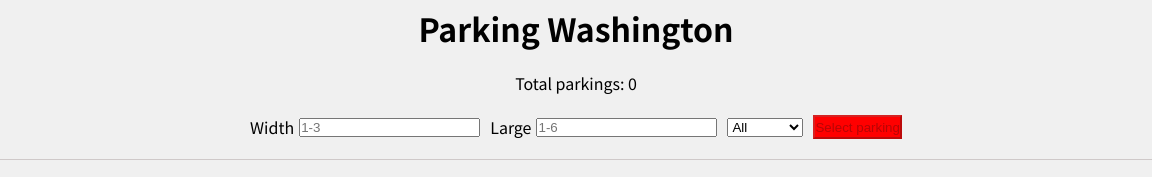
Test case: Verify Header › check the events of Header
Check: the number field labelled "Width" is empty, box [299, 118, 480, 136]
Check: the number field labelled "Large" is empty, box [536, 118, 718, 136]
Select "Compact" in the dropdown at (766, 127), box [728, 118, 804, 136]
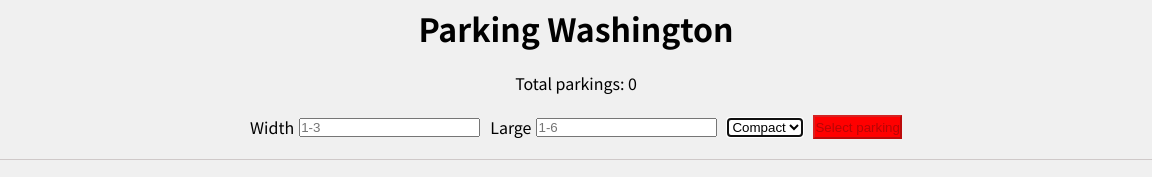
Type "2" into the number field labelled "Width" at (390, 127), box [299, 118, 480, 136]
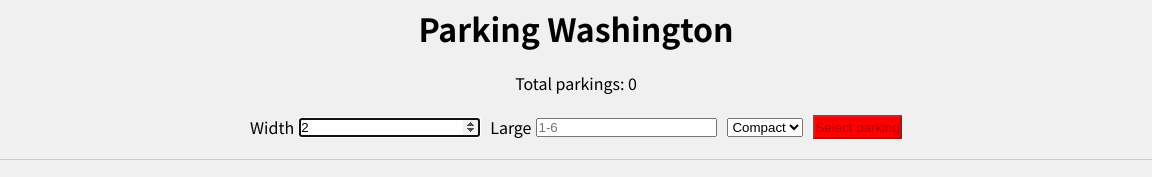
Type "7" into the number field labelled "Large" at (627, 127), box [536, 118, 718, 136]
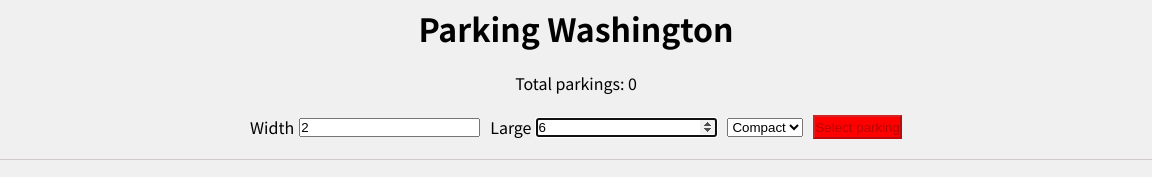
Check: the button "Select parking" is disabled, box [814, 115, 902, 139]
Check: the number field labelled "Large" holds "6", box [536, 118, 718, 136]
